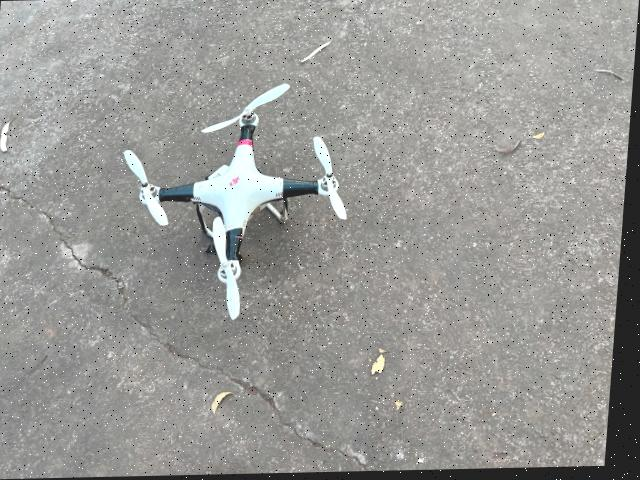drone: (87, 64, 415, 347)
